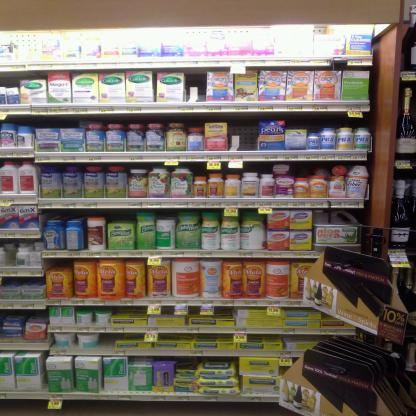Void: (232, 120, 257, 150), (185, 73, 208, 103), (46, 260, 72, 270), (180, 356, 192, 368), (101, 334, 112, 346)
